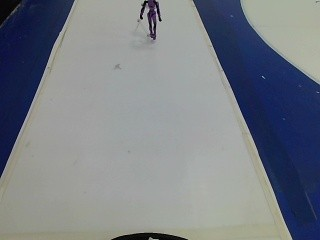pedestrian: (130, 0, 167, 42)
